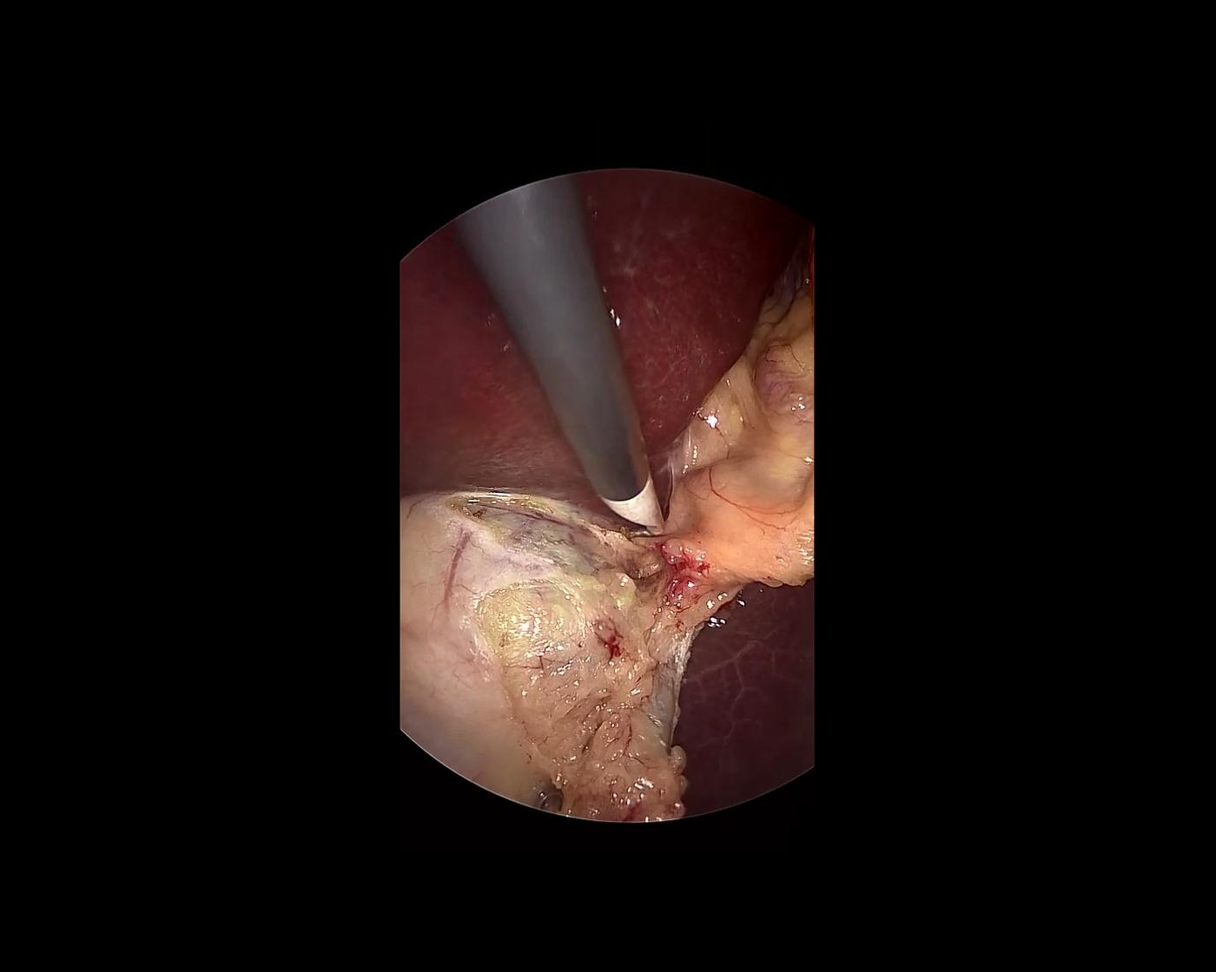Cautery: (450, 171, 670, 565)
Gallbladder: (366, 477, 748, 831)
Liver: (378, 157, 801, 536), (673, 577, 815, 818)
